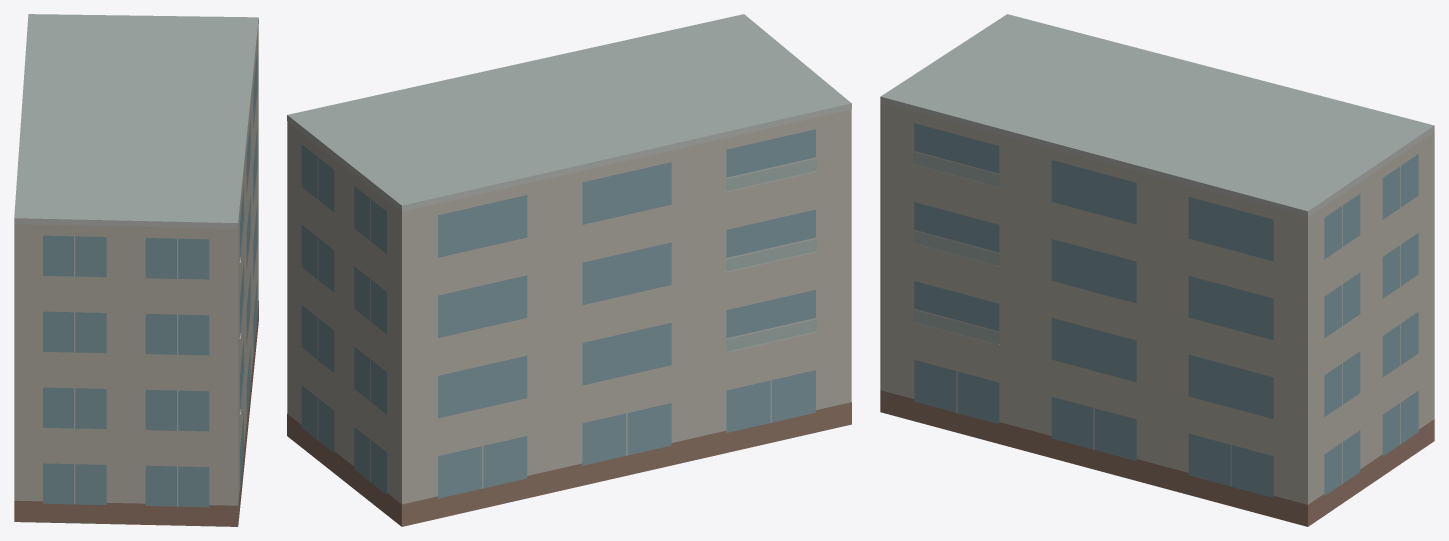
The model's file is survey-upis-32689828.glb.
The picture shows the model from 3 angles, left to right: view 1: azimuth 30°, elevation 25°; view 2: azimuth 150°, elevation 25°; view 3: azimuth 270°, elevation 25°; orthographic projection. The views are drawn at different scales.
Visible parts, largest first — view 1: survey-upis-32689828.tmp; view 2: survey-upis-32689828.tmp; view 3: survey-upis-32689828.tmp.
Part boxes in pixels (x1,y1,x2,y2): survey-upis-32689828.tmp: (14, 14, 258, 526); survey-upis-32689828.tmp: (287, 14, 851, 526); survey-upis-32689828.tmp: (880, 14, 1434, 526).
Bounding box in the file's own units: 17.04 × 12.7 × 20.22.
